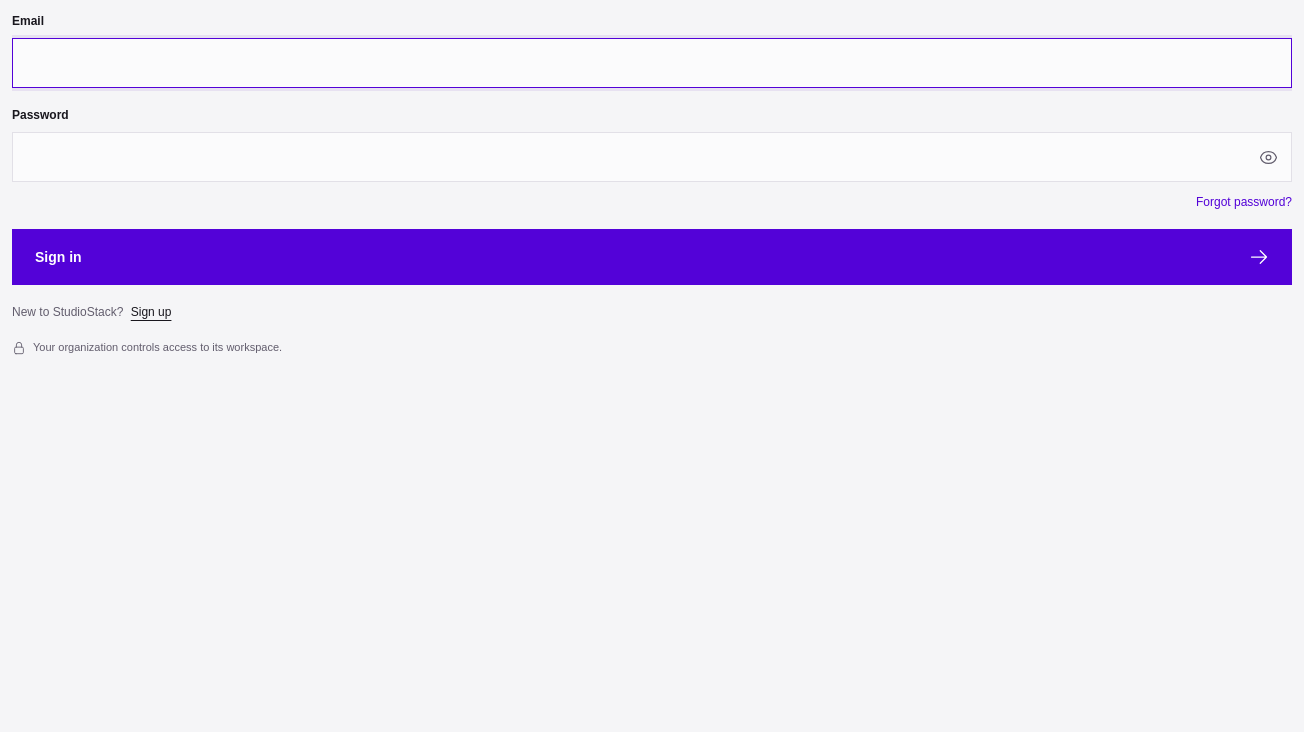
Test: Inline StudioStack authentication › prevents mismatched signup passwords from reaching Cognito
This screenshot has width=1304, height=732.
Click the button "Sign up": (151, 312) [131,303,171,321]
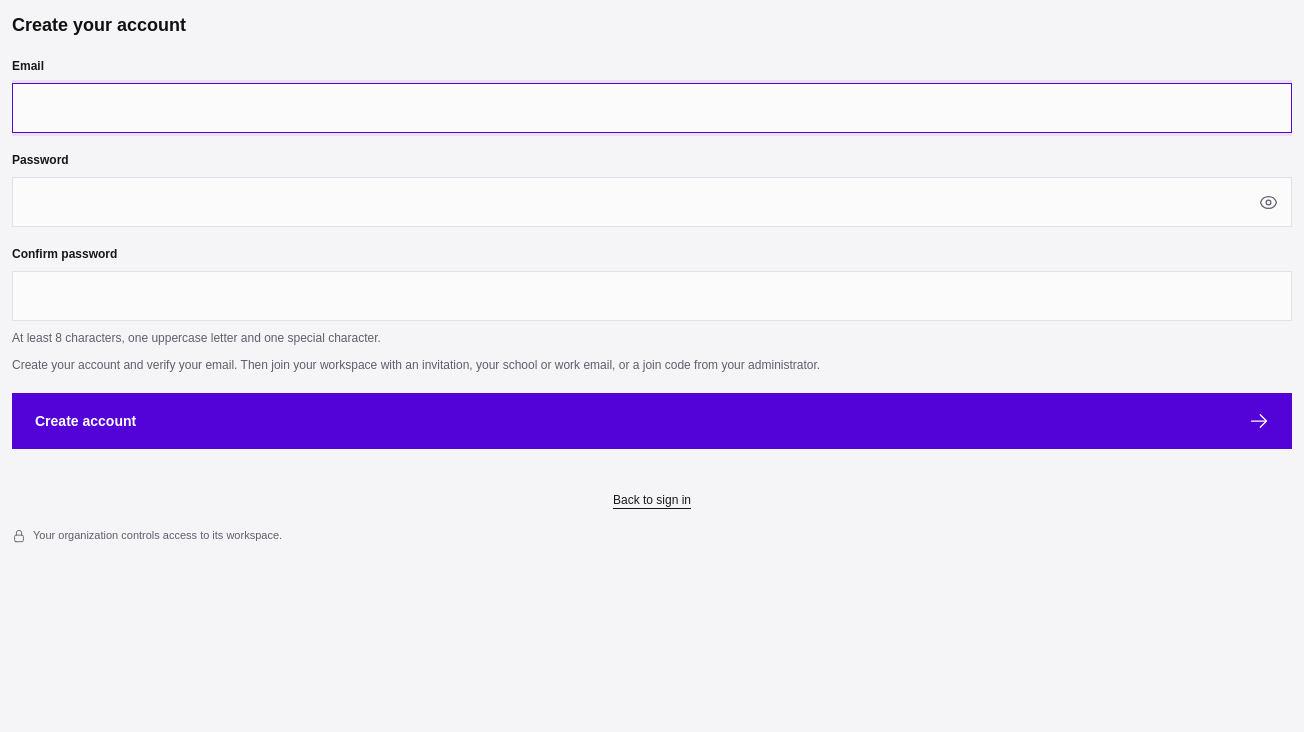
In the field labelled "Email": (652, 108) [12,83,1292,133], type "new@example.test"
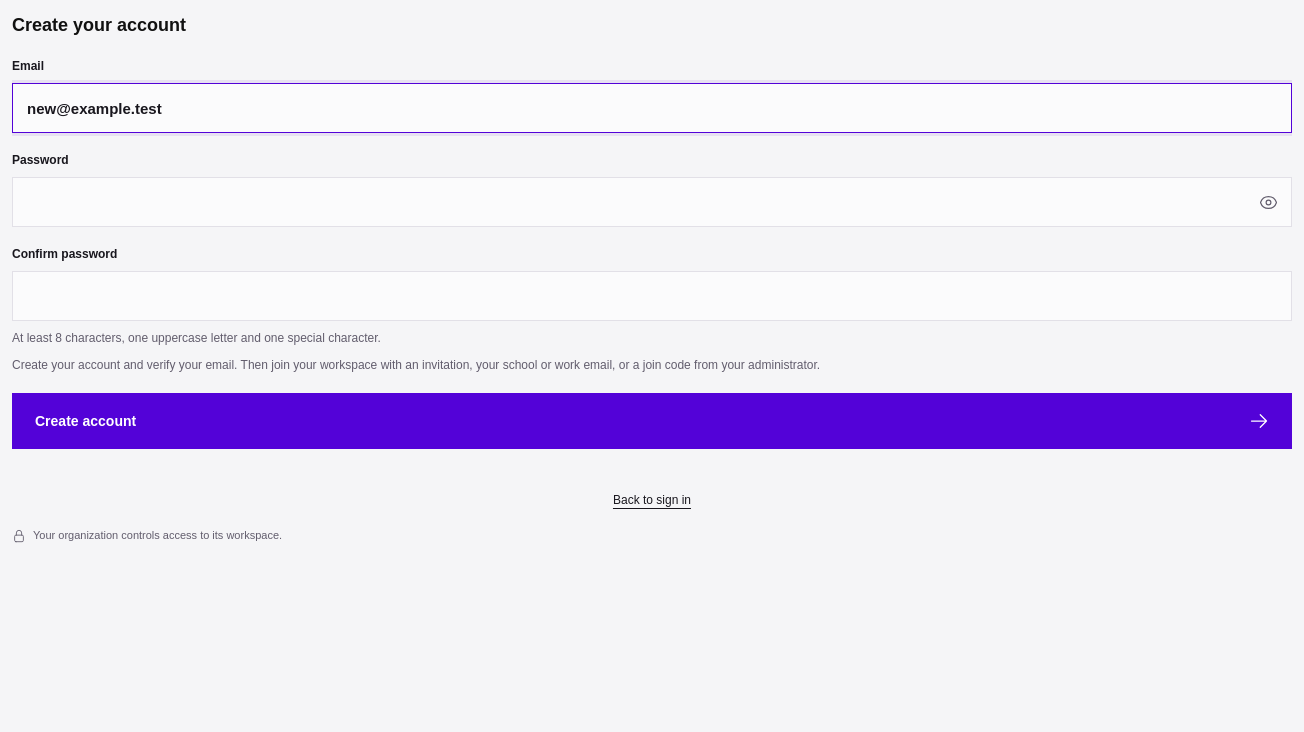
In the password field labelled "Password": (652, 202) [12,177,1292,227], type "NEWPASS!"
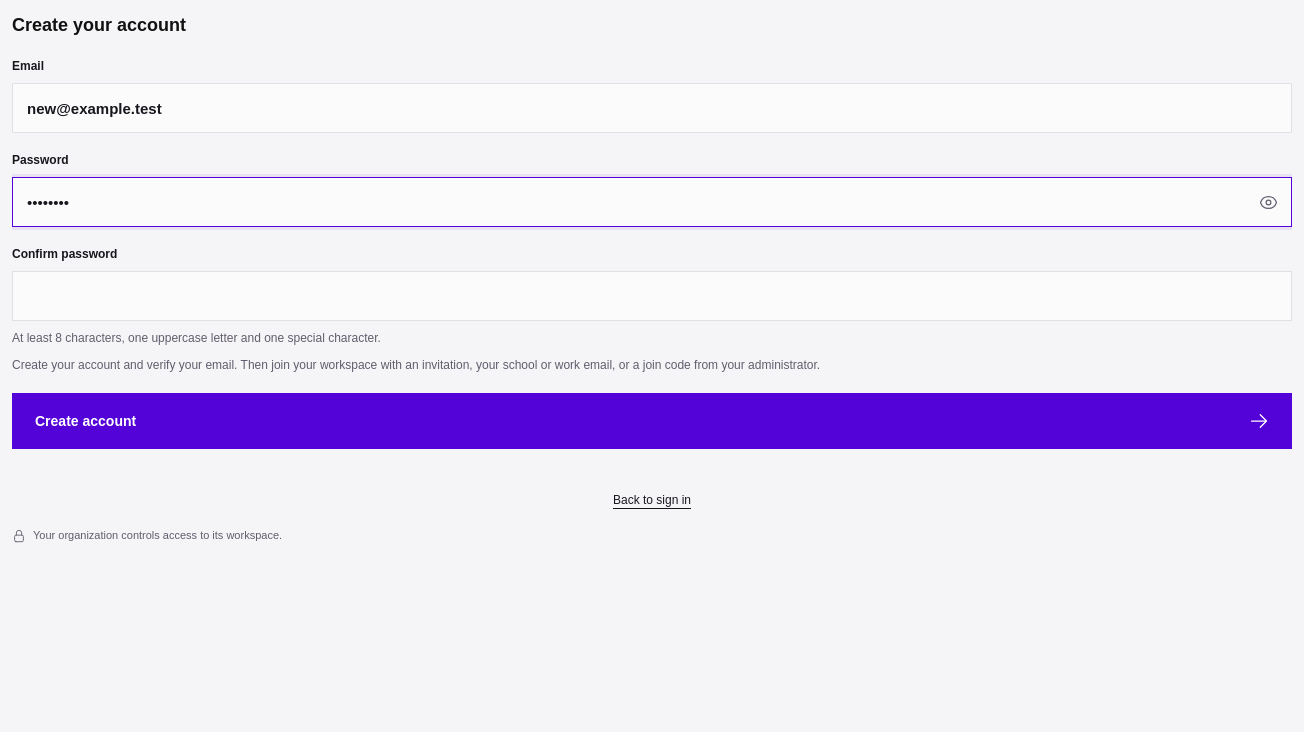
In the password field labelled "Confirm password": (652, 296) [12,271,1292,321], type "OTHERPASS!"
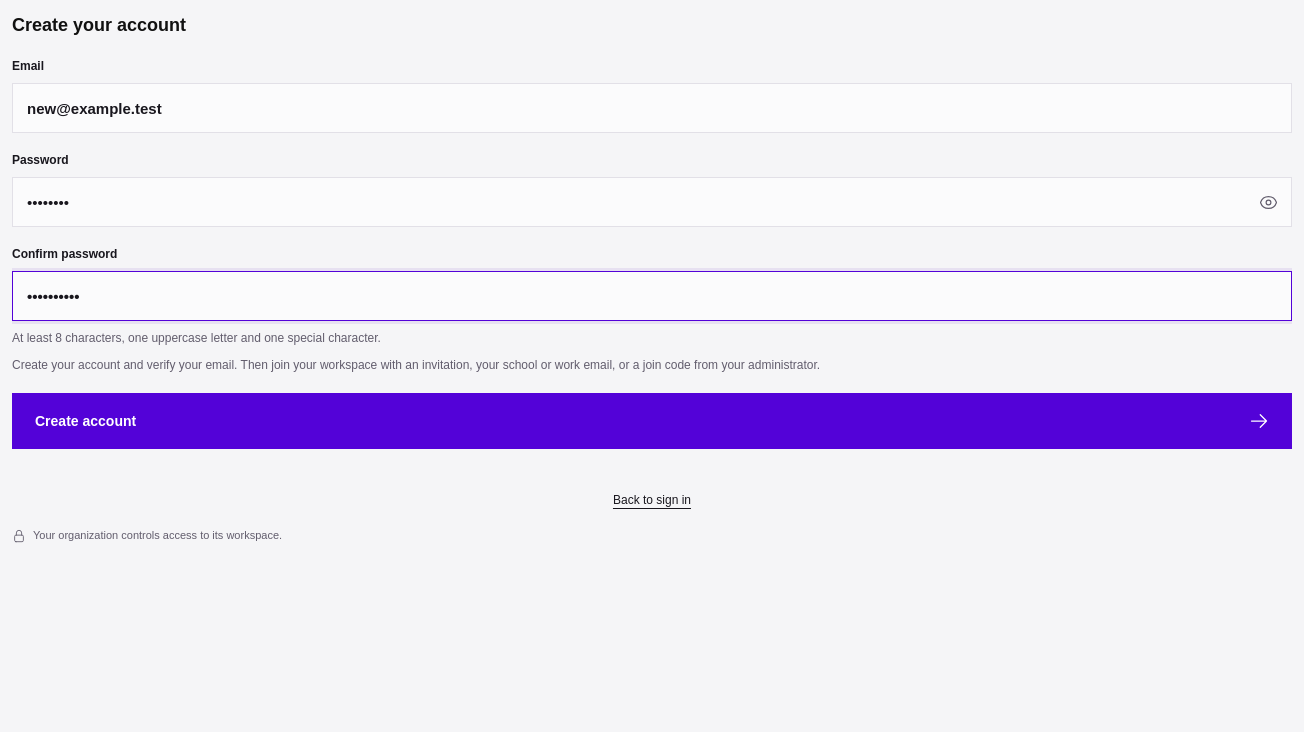
Click the button "Create account": (86, 421) [12,393,1292,449]
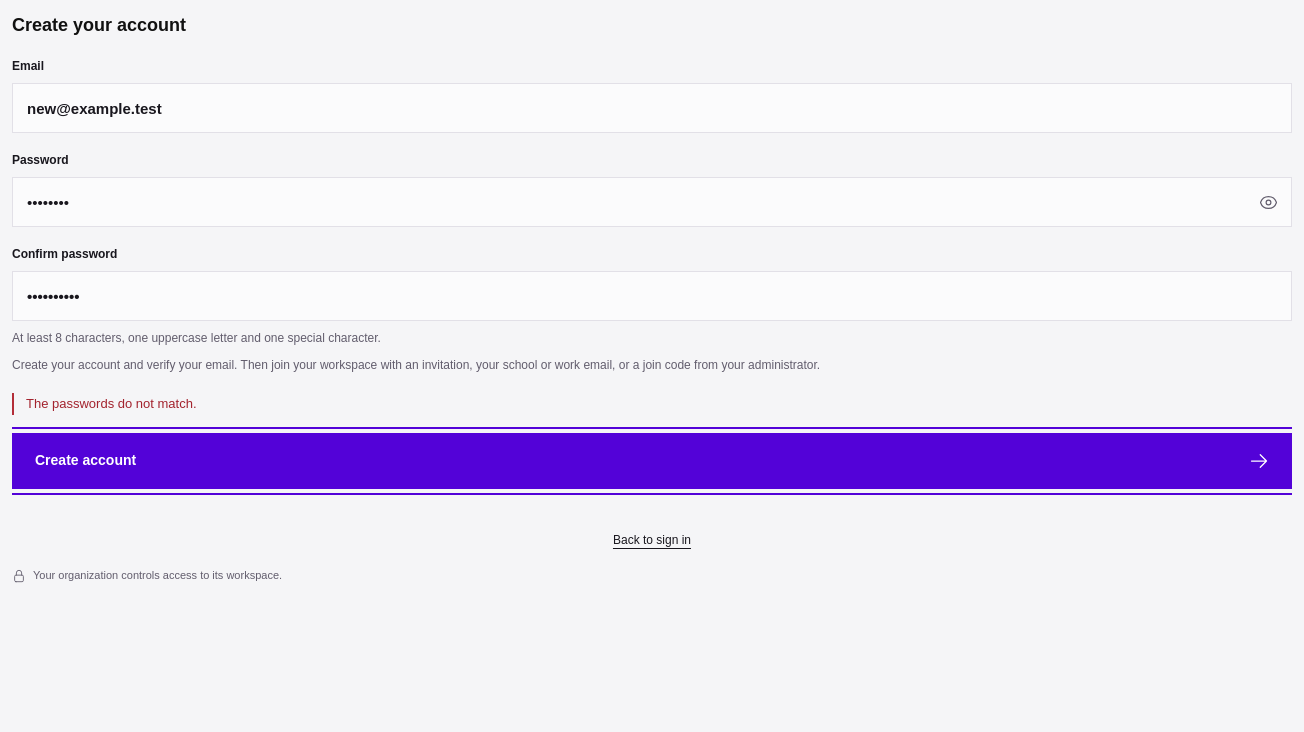
Expected: the message shows "do not match", [26,396,196,411]
